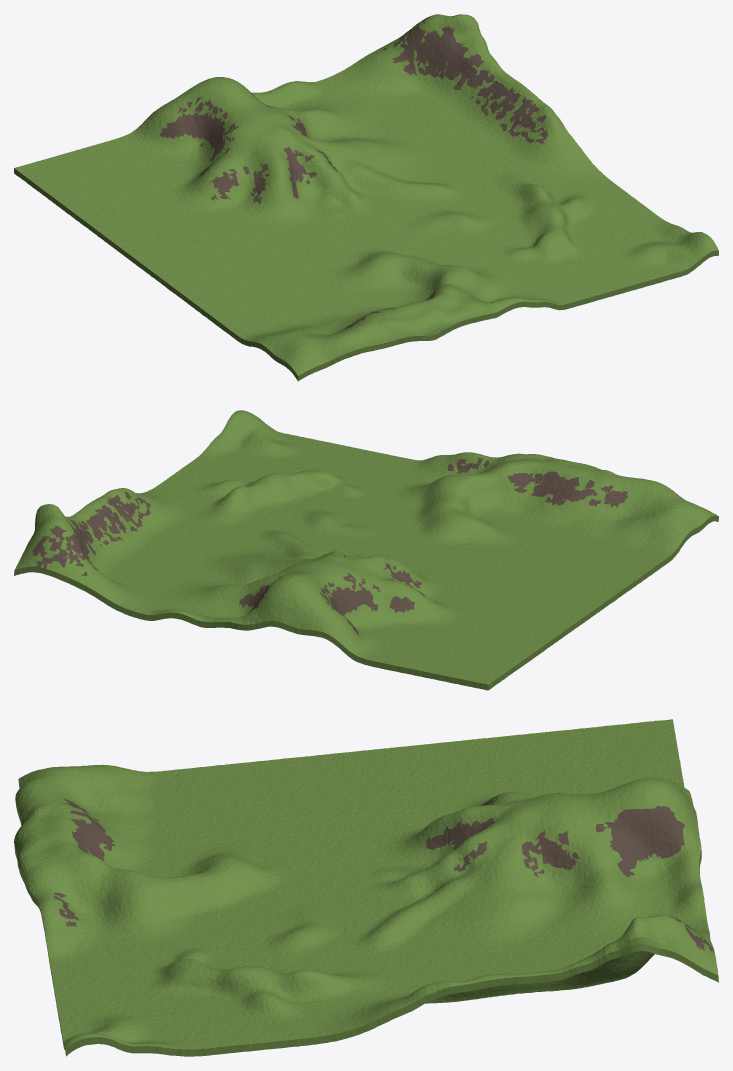
Rendered from Map.fbx.
The picture shows the model from 3 angles, top to bottom: view 1: azimuth 30°, elevation 25°; view 2: azimuth 150°, elevation 25°; view 3: azimuth 270°, elevation 25°; orthographic projection. The views are drawn at different scales.
Parts seen in each view (by area): view 1: Plane; view 2: Plane; view 3: Plane.
Boxes of the visible parts, x1,y1,x2,y2 form: Plane: (14, 14, 718, 381); Plane: (14, 410, 718, 690); Plane: (14, 719, 718, 1056).
Size of the model in its own units: 13675 by 2749 by 13717.
